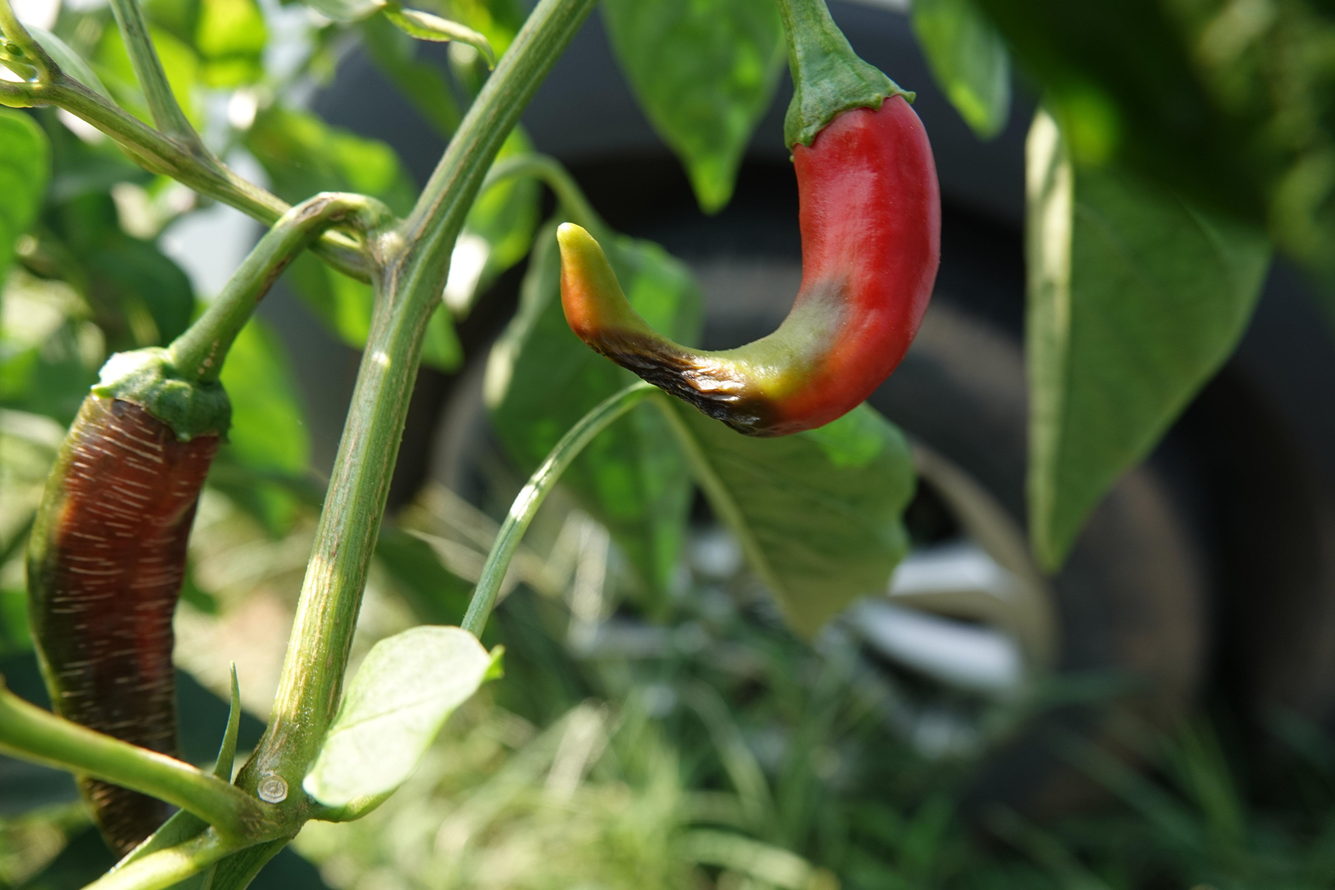Busuk Buah Antraknosa: (552, 1, 944, 440), (20, 323, 234, 857)
